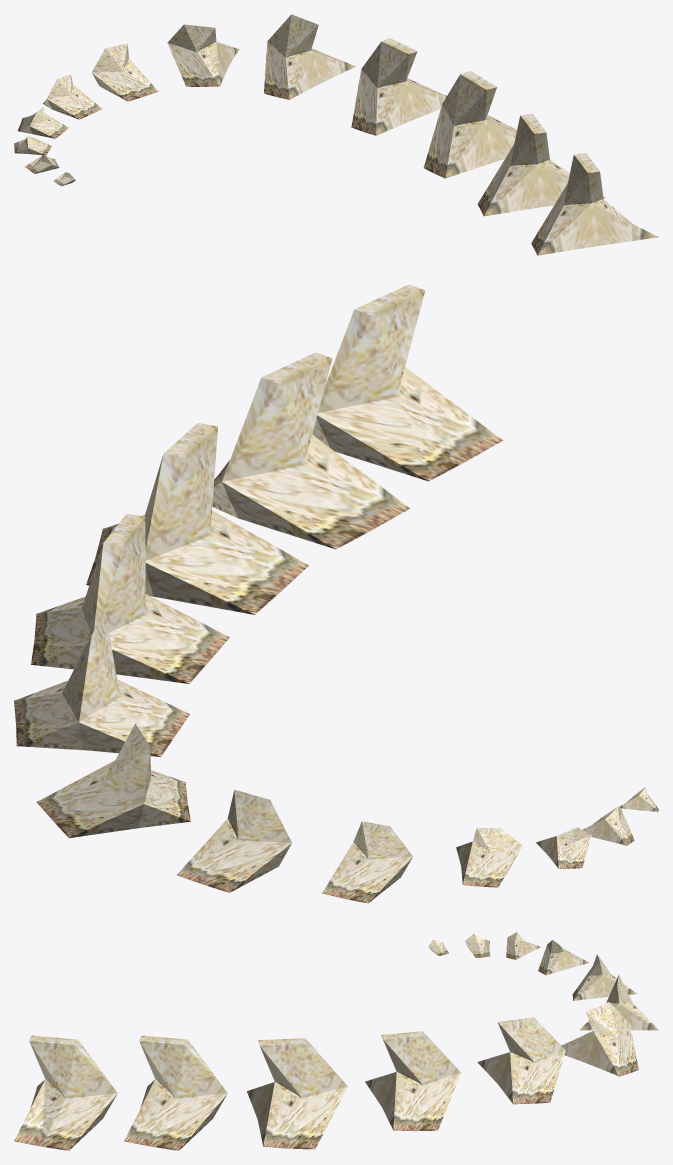
The model's file is poi_tato_skel_krayt_tail_l0.fbx.
3 views of the same model, one above another, from view 1: azimuth 30°, elevation 25°; view 2: azimuth 150°, elevation 25°; view 3: azimuth 270°, elevation 25° (orthographic). The views are drawn at different scales.
Parts seen in each view (by area): view 1: mesh_node; view 2: mesh_node; view 3: mesh_node.
Part boxes in pixels (left/top/right/bottom): mesh_node: left=14, top=14, right=658, bottom=255; mesh_node: left=14, top=284, right=658, bottom=903; mesh_node: left=14, top=932, right=658, bottom=1150.
Bounding box in the file's own units: 4.8 × 0.9668 × 6.32.
Materials: 1 (1 with a texture image).
